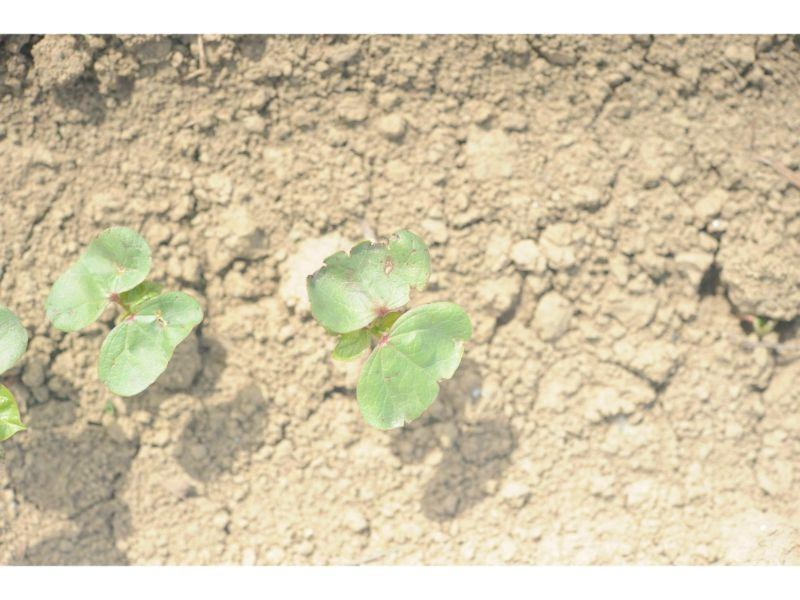cotton: (307, 227, 474, 432), (45, 224, 205, 398)
